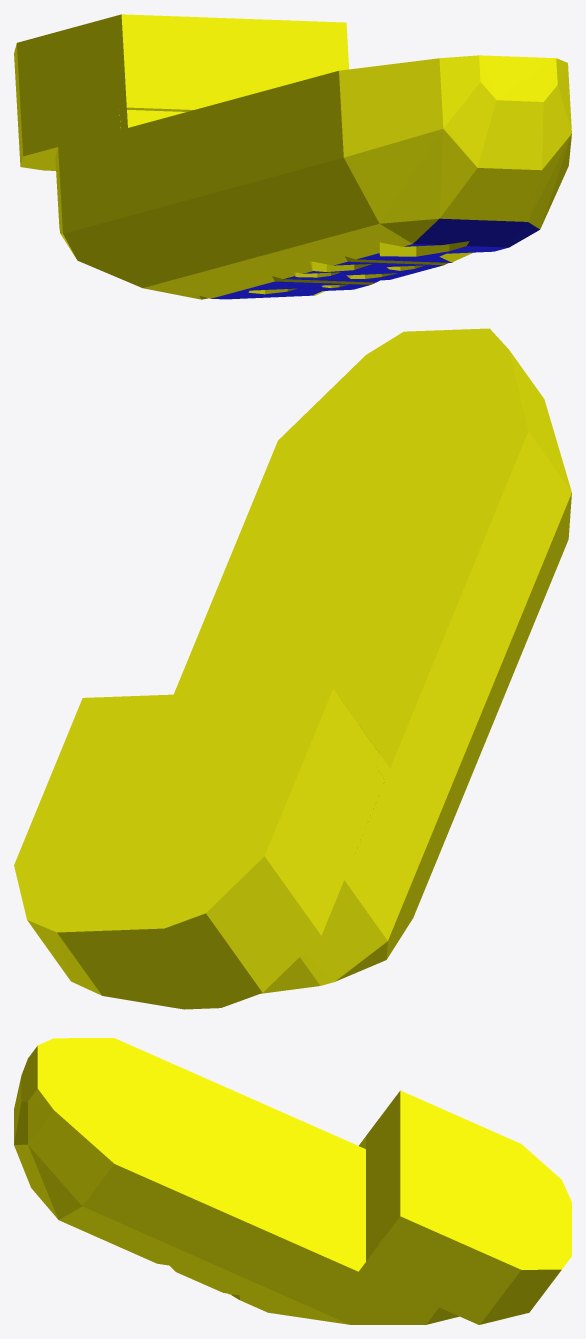
Rendered from jrb_segment7.0x105B8.collision.obj.
The picture shows the model from 3 angles, top to bottom: view 1: azimuth 30°, elevation 25°; view 2: azimuth 150°, elevation 25°; view 3: azimuth 270°, elevation 25°; orthographic projection. The views are drawn at different scales.
Parts seen in each view (by area): view 1: jrb_segment7_105B8_normal, jrb_segment7_105B8_slippery; view 2: jrb_segment7_105B8_normal; view 3: jrb_segment7_105B8_normal.
Boxes of the visible parts, left/top/right/bottom form: jrb_segment7_105B8_normal: left=14, top=14, right=571, bottom=299; jrb_segment7_105B8_slippery: left=211, top=218, right=539, bottom=299; jrb_segment7_105B8_normal: left=14, top=328, right=571, bottom=1009; jrb_segment7_105B8_normal: left=14, top=1038, right=571, bottom=1324.
Size of the model in its own units: 3.11 by 3.46 by 6.89.
